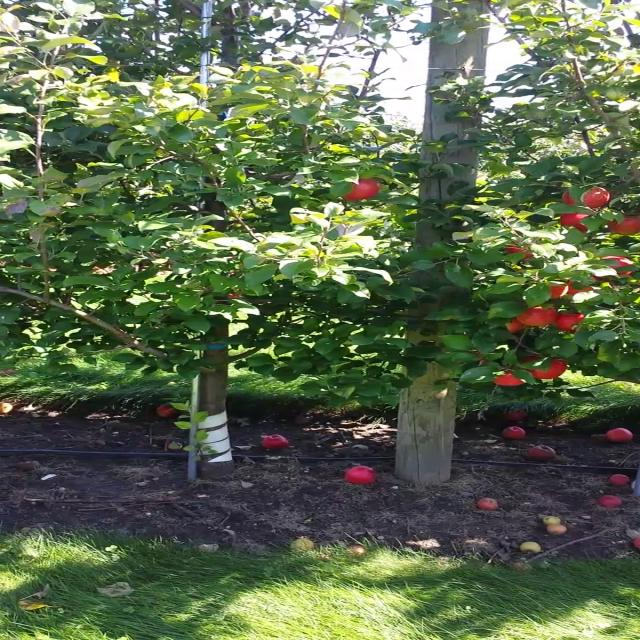apple: (521, 355, 571, 379), (591, 256, 635, 282), (562, 187, 610, 209), (341, 177, 382, 201), (516, 305, 558, 327), (605, 216, 639, 236), (561, 213, 593, 233), (555, 312, 584, 332), (493, 370, 528, 386), (503, 243, 535, 258), (567, 279, 595, 294), (505, 317, 527, 333), (549, 285, 568, 299)
